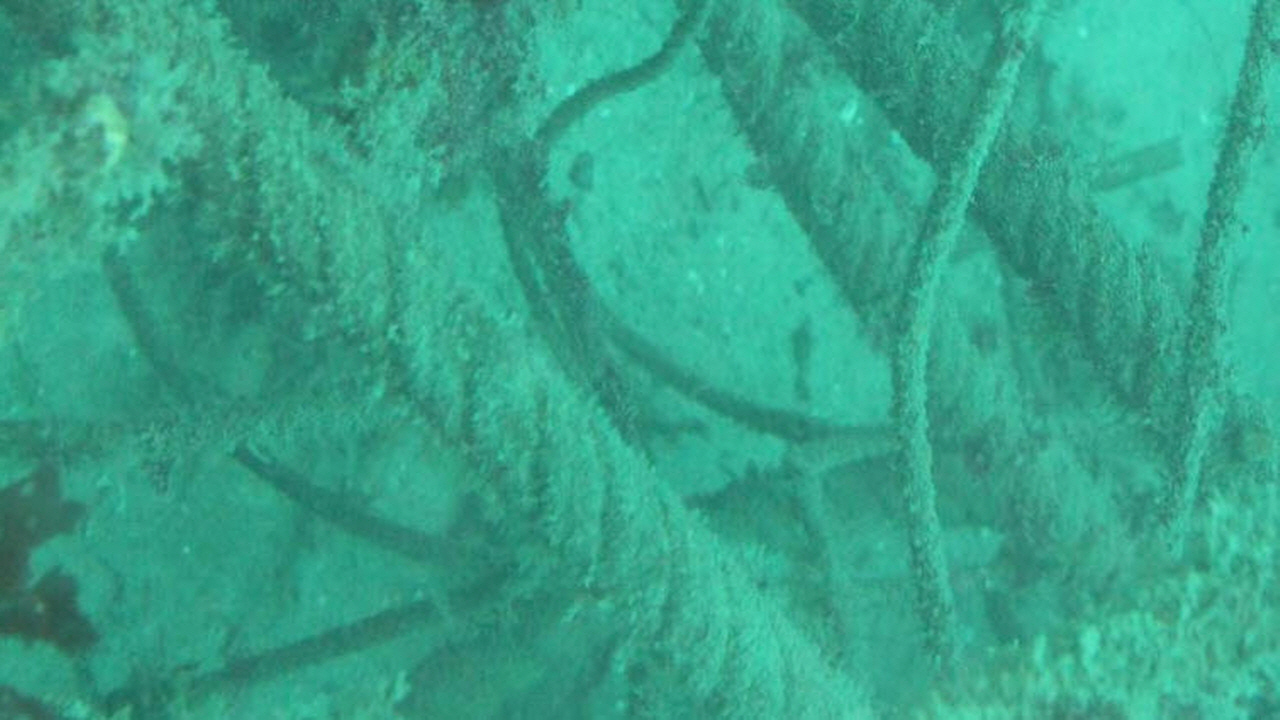bundle of ropes: (33, 0, 1280, 720)
